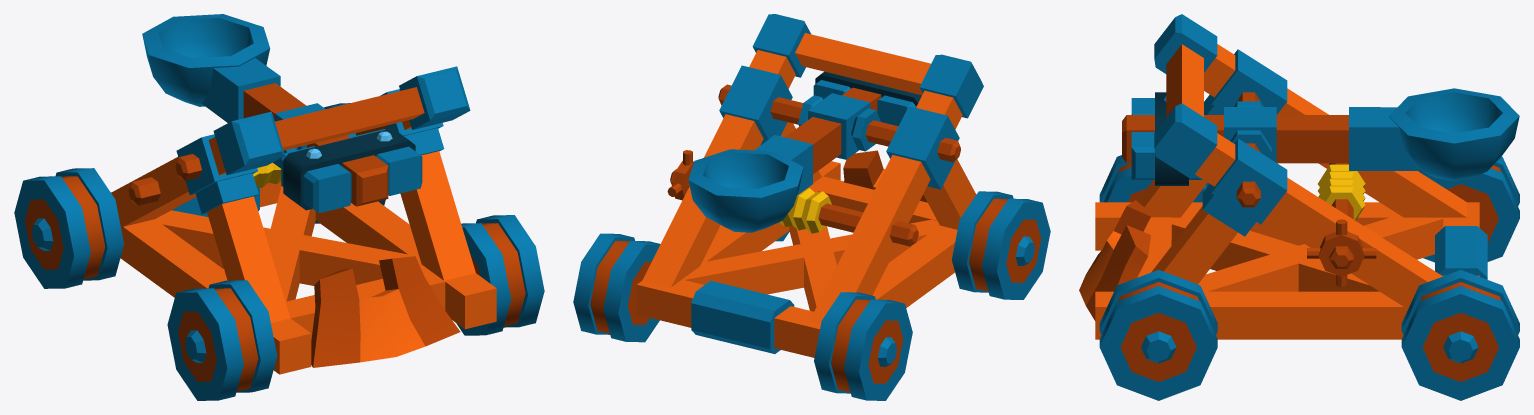
File: Vehicle_Catapult_01.fbx
3 renders of one model, left to right at view 1: azimuth 30°, elevation 25°; view 2: azimuth 150°, elevation 25°; view 3: azimuth 270°, elevation 25°, orthographic. The views are drawn at different scales.
Parts seen in each view (by area): view 1: Vehicle_Catapult_01, Catapult_01_Arm, Catapult_01_Wheels_F, Catapult_01_Wheels_R, Catapult_01_Winch; view 2: Vehicle_Catapult_01, Catapult_01_Wheels_R, Catapult_01_Arm, Catapult_01_Wheels_F, Catapult_01_Winch; view 3: Vehicle_Catapult_01, Catapult_01_Arm, Catapult_01_Wheels_R, Catapult_01_Wheels_F, Catapult_01_Winch.
Part boxes in pixels (bbox=[...]): Vehicle_Catapult_01: bbox=[111, 66, 496, 374]; Catapult_01_Arm: bbox=[142, 14, 422, 213]; Catapult_01_Wheels_F: bbox=[167, 215, 544, 400]; Catapult_01_Wheels_R: bbox=[14, 103, 385, 288]; Catapult_01_Winch: bbox=[128, 162, 281, 205]; Vehicle_Catapult_01: bbox=[636, 14, 983, 357]; Catapult_01_Wheels_R: bbox=[573, 233, 912, 400]; Catapult_01_Arm: bbox=[688, 71, 921, 232]; Catapult_01_Wheels_F: bbox=[775, 191, 1050, 299]; Catapult_01_Winch: bbox=[667, 150, 918, 246]; Vehicle_Catapult_01: bbox=[1079, 14, 1487, 339]; Catapult_01_Arm: bbox=[1122, 88, 1519, 185]; Catapult_01_Wheels_R: bbox=[1401, 156, 1519, 400]; Catapult_01_Wheels_F: bbox=[1099, 155, 1217, 400]; Catapult_01_Winch: bbox=[1307, 163, 1376, 286].
Bounding box in the file's own units: 377 × 283 × 442.
